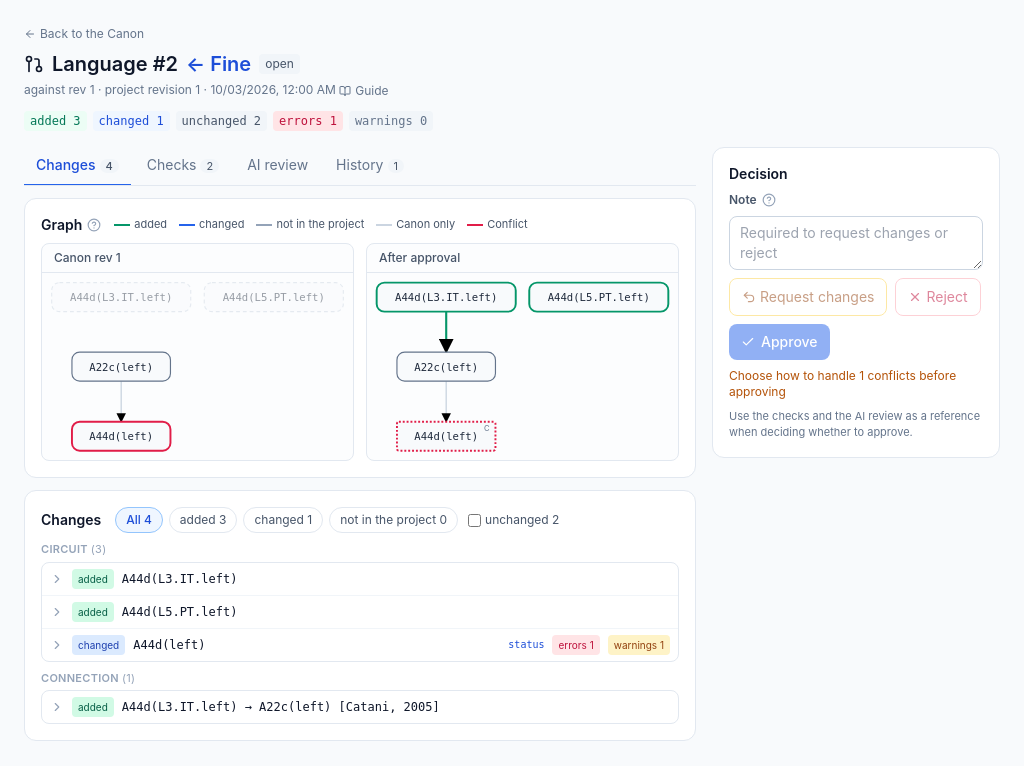
Canon PR review page › runs the AI review with a Tier model, asks to check the evidence, and turns a draft into a comment
Click the tab with test id "tab-ai": (278,166) [235,147,320,186]
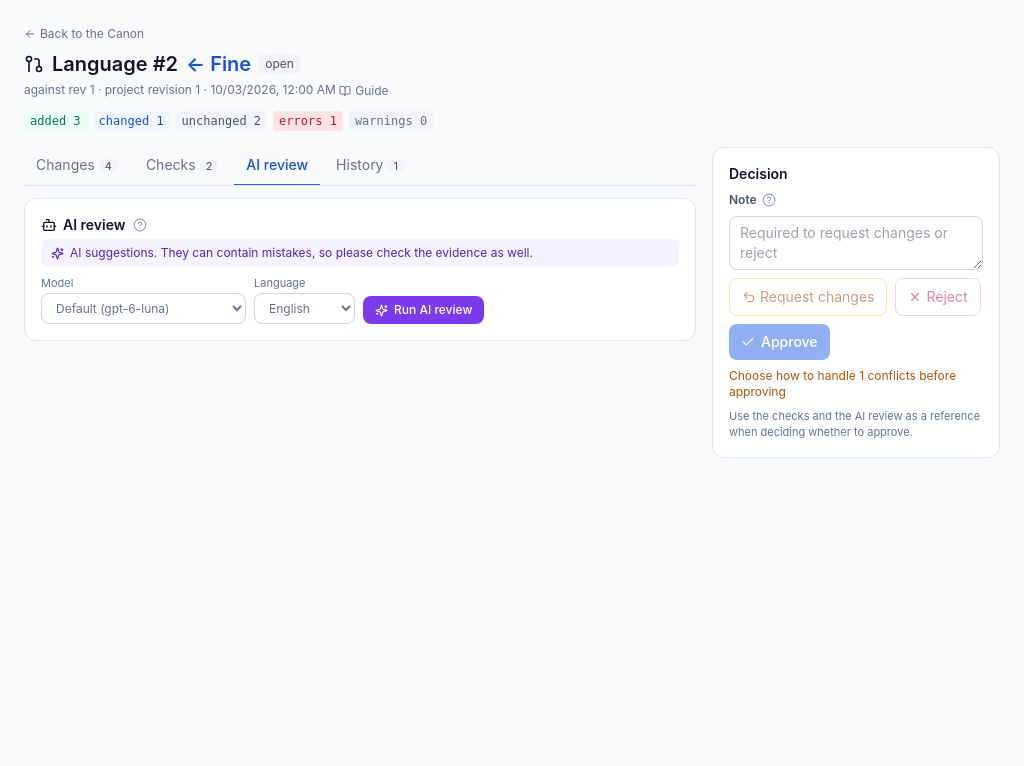
Expected: the element with test id "ai-notice" shows "please check the evidence", [70,245,533,260]
Click the button with test id "ai-run": (424,310) [363,296,484,324]
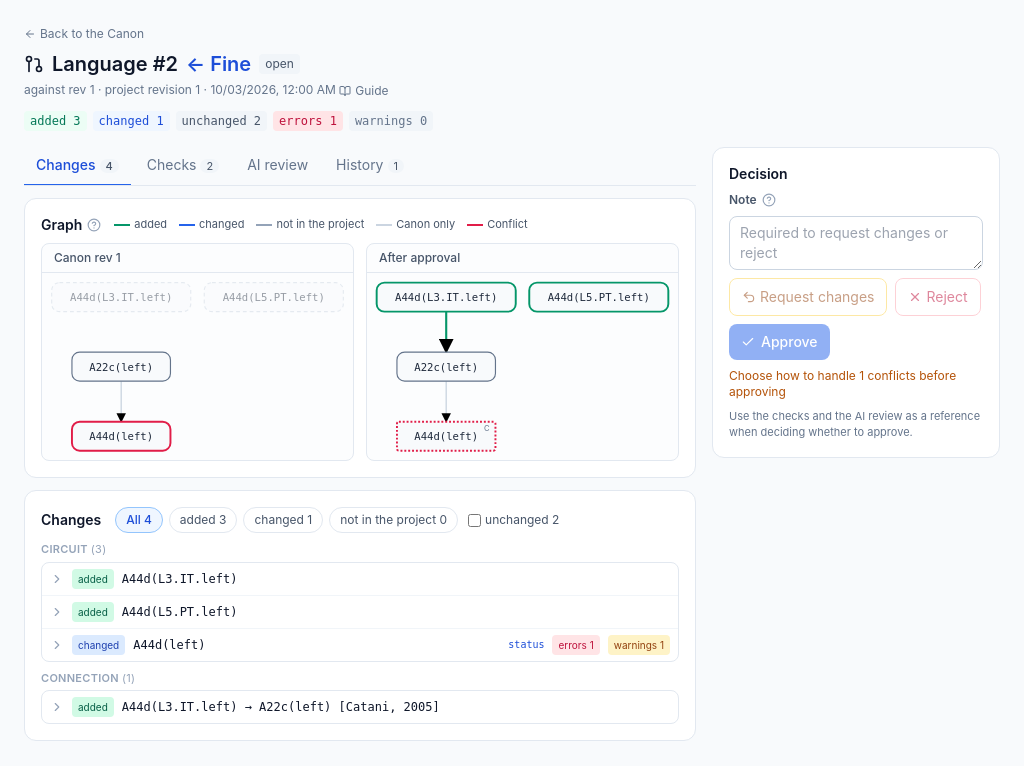
Click the tab with test id "tab-ai": (278,166) [235,147,320,186]
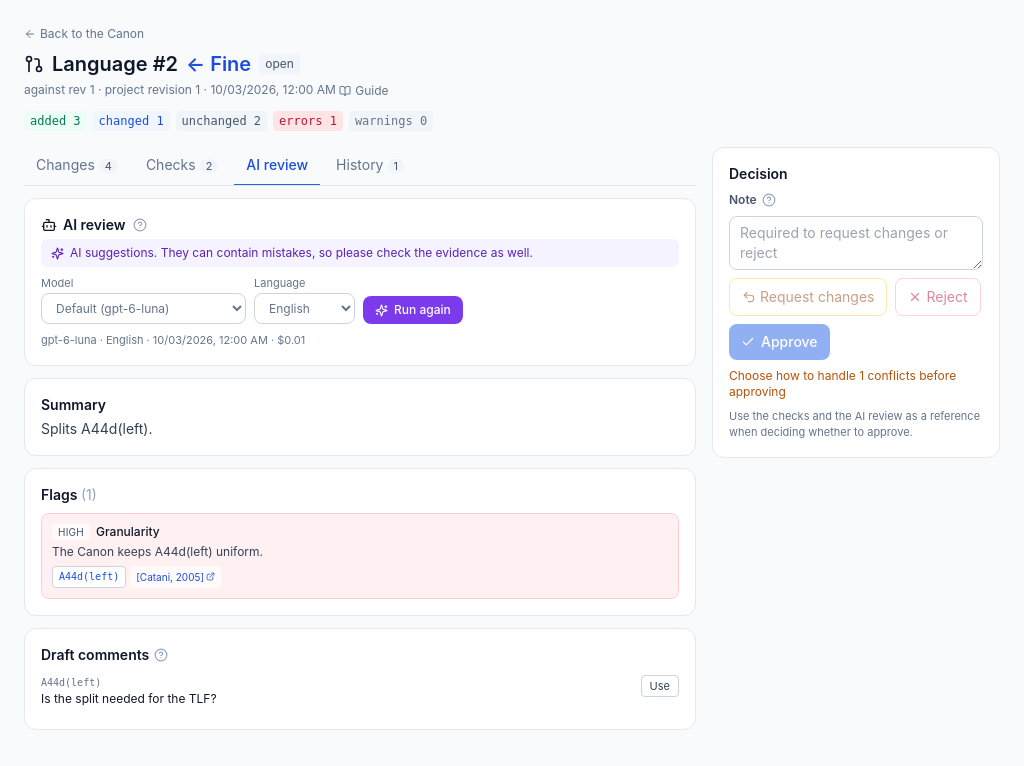
Expected: the link to "https://doi.org/10.1002/ana.20319" is shown, [130,566,221,588]
Expected: the text with test id "ai-summary" reads "Splits A44d(left).", [41,420,152,437]
Click the button with test id "ai-use-comment": (660,686) [641,675,679,697]
(page scrolled)
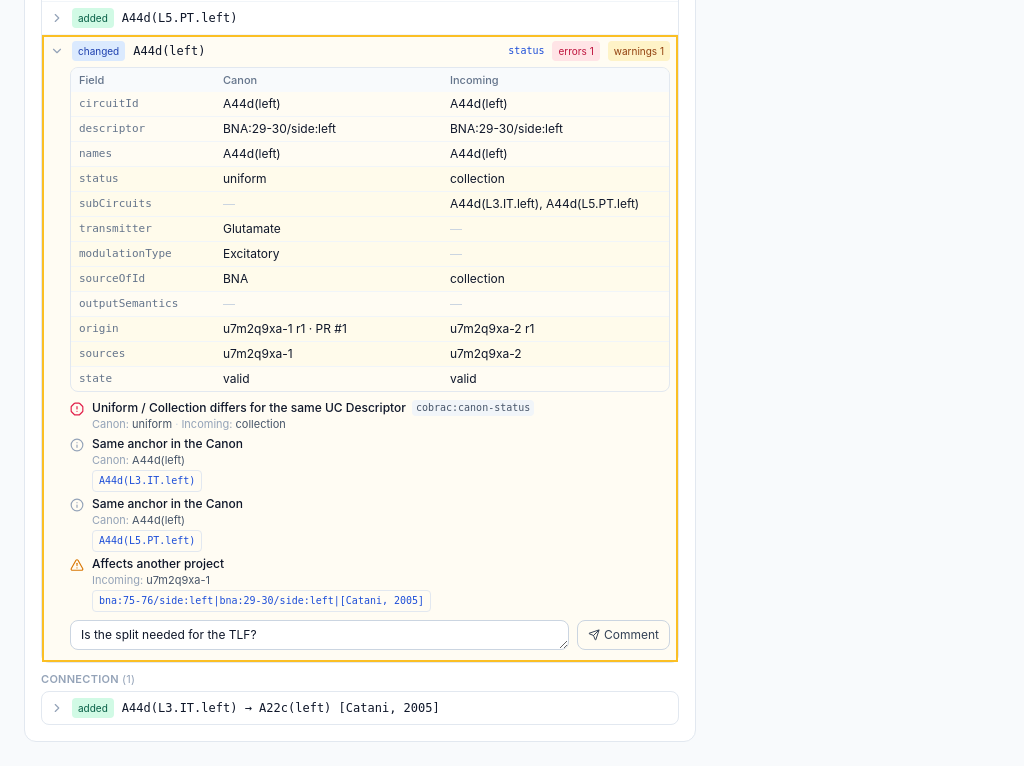
Expected: the text box with test id "comment-input" holds "Is the split needed for the TLF?", [70,620,569,650]
